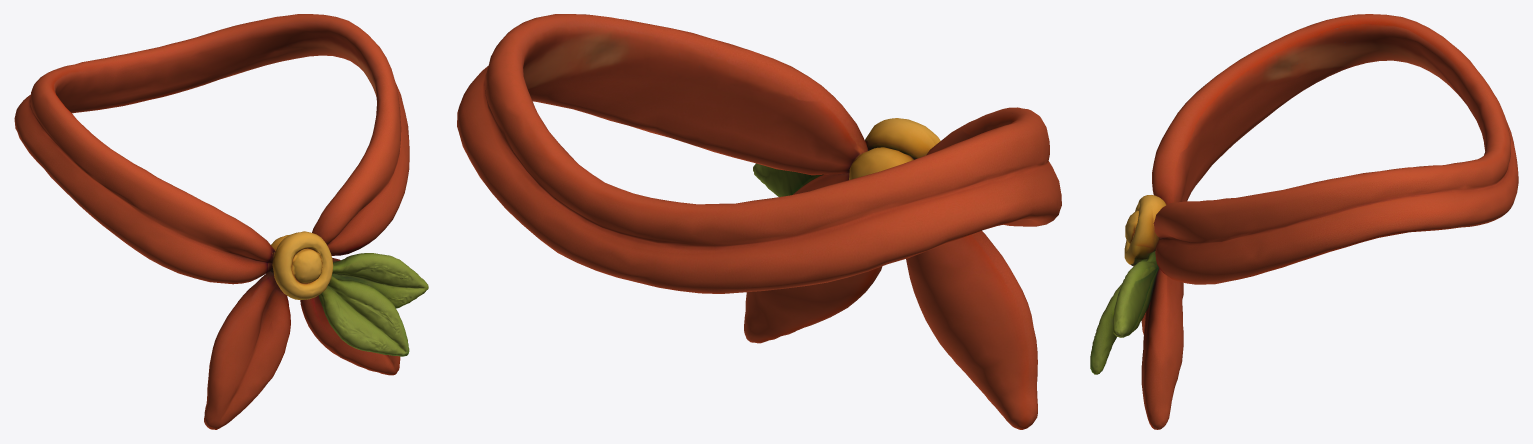
The model's file is mem_ac_redscarf.fbx.
3 renders of one model, left to right at view 1: azimuth 30°, elevation 25°; view 2: azimuth 150°, elevation 25°; view 3: azimuth 270°, elevation 25°, orthographic. The views are drawn at different scales.
Parts seen in each view (by area): view 1: tripo_node_a5c701cd-e00d-406b-b413-6a0fbee067ac; view 2: tripo_node_a5c701cd-e00d-406b-b413-6a0fbee067ac; view 3: tripo_node_a5c701cd-e00d-406b-b413-6a0fbee067ac.
Part boxes in pixels (<box>): tripo_node_a5c701cd-e00d-406b-b413-6a0fbee067ac: <box>14,14,428,429</box>; tripo_node_a5c701cd-e00d-406b-b413-6a0fbee067ac: <box>457,14,1061,429</box>; tripo_node_a5c701cd-e00d-406b-b413-6a0fbee067ac: <box>1090,14,1518,429</box>.
Bounding box in the file's own units: 0.998 × 0.752 × 0.9746.
1 material, 1 textured.
